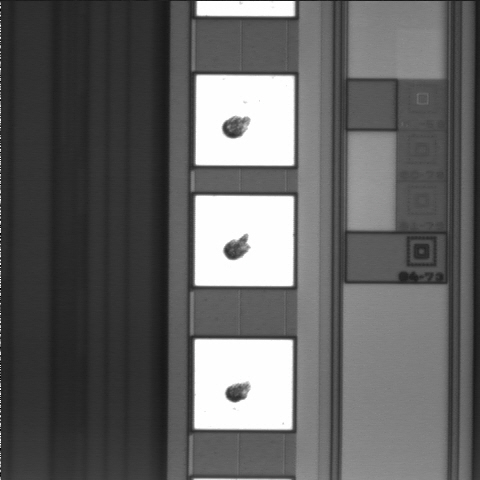pad: (196, 75, 294, 166), (195, 196, 294, 286), (194, 339, 293, 429)
